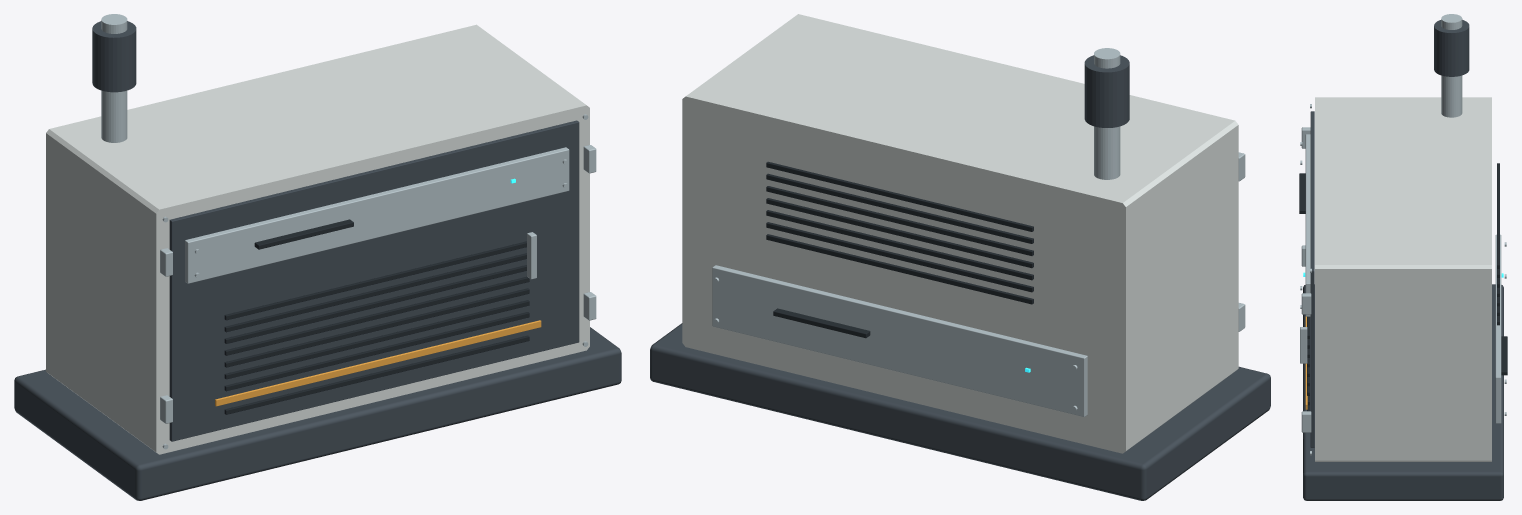
Rendered from data-centre-infiltration-kit-data-centre-infiltration--156ba715__29238.glb.
The picture shows the model from 3 angles, left to right: view 1: azimuth 30°, elevation 25°; view 2: azimuth 150°, elevation 25°; view 3: azimuth 270°, elevation 25°; orthographic projection. The views are drawn at different scales.
Visible parts, largest first — view 1: data-centre-infiltration-kit-generator; view 2: data-centre-infiltration-kit-generator; view 3: data-centre-infiltration-kit-generator.
Boxes of the visible parts, x1,y1,x2,y2 form: data-centre-infiltration-kit-generator: (14,14,621,500); data-centre-infiltration-kit-generator: (650,14,1270,500); data-centre-infiltration-kit-generator: (1299,14,1507,500).
Size of the model in its own units: 2.8 by 2.2 by 1.29.
